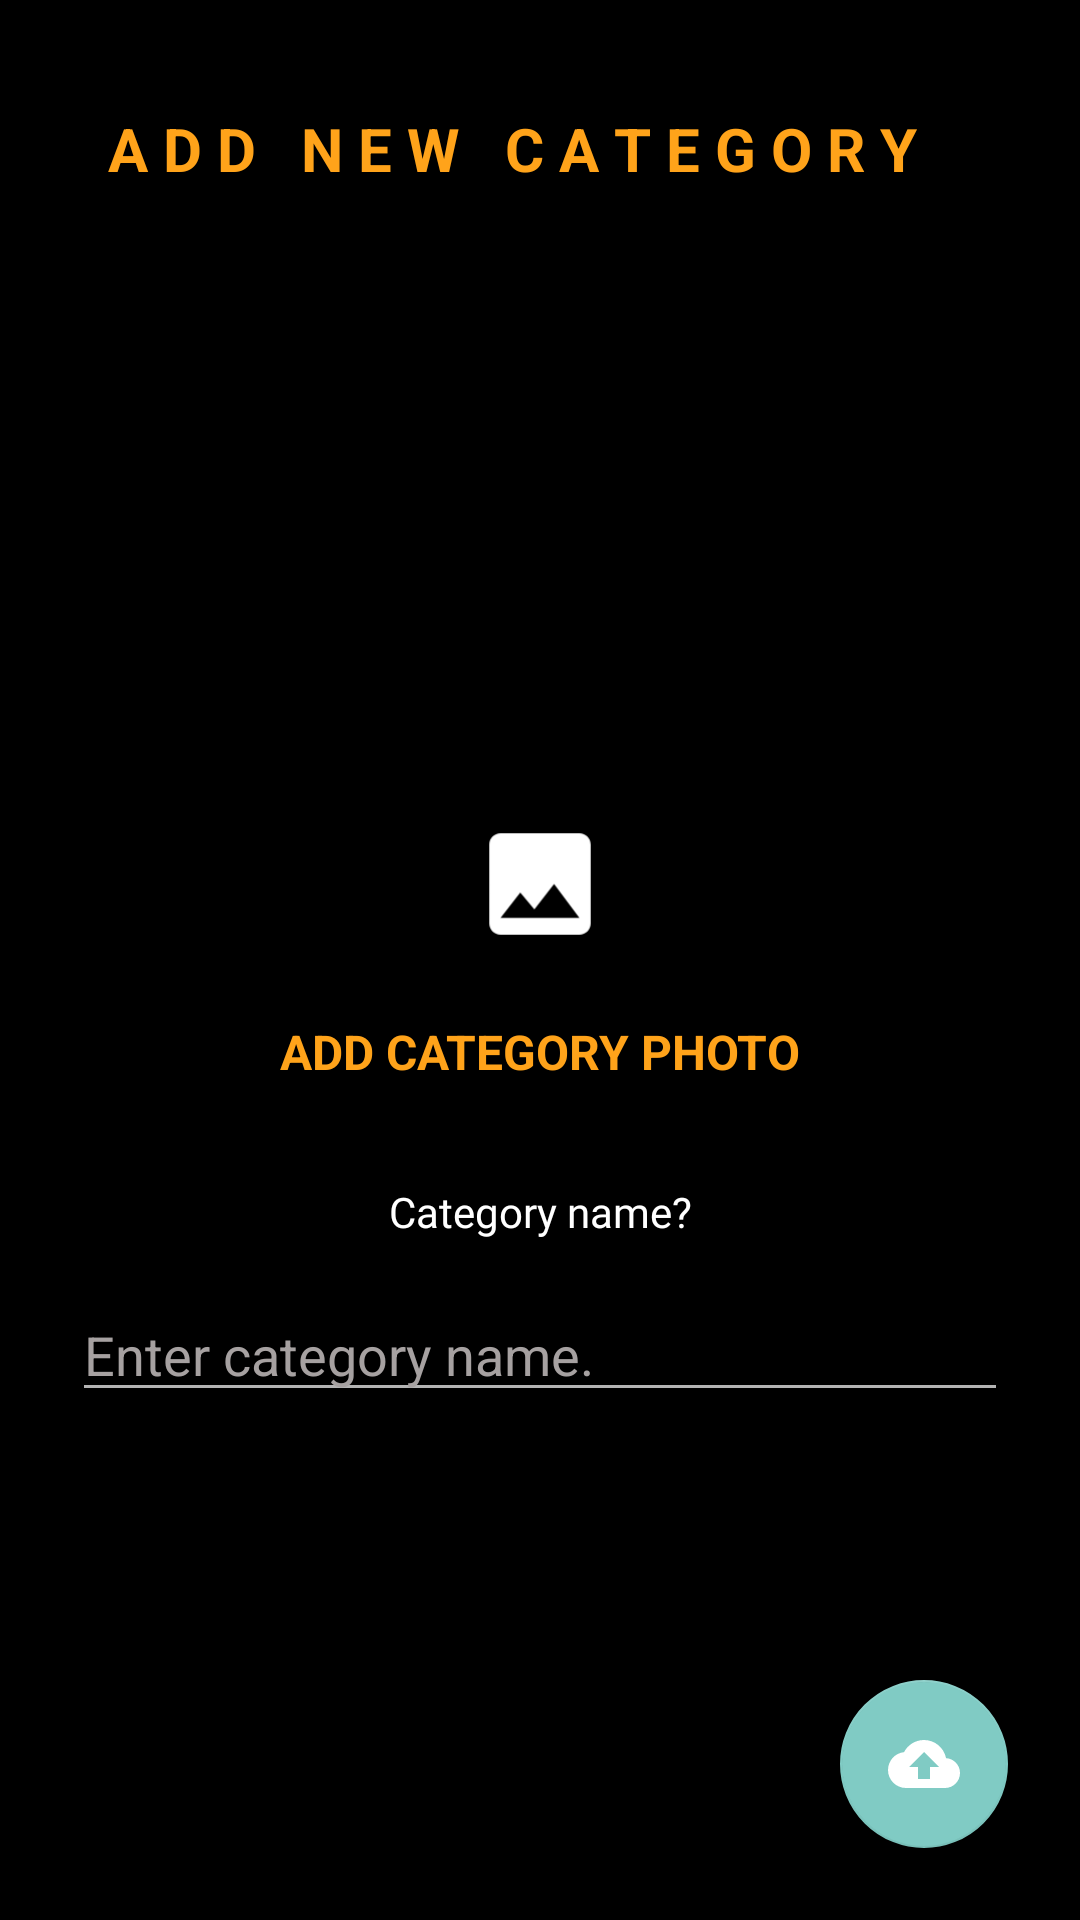

Locate icon controls on the screen. Image size 1080px×1920px, boxes as box(x1, y1, x2, y2).
cloud upload: box(840, 1680, 1008, 1848)
